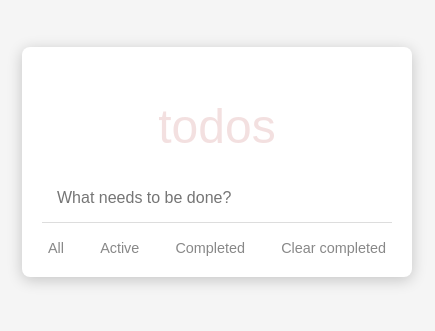
Test: ToDo App › should allow users to add a new todo
// Добавляем новую задачу
Type "Test the app" into the field with placeholder "What needs to be done?" at (217, 199), box [42,174,392,223]
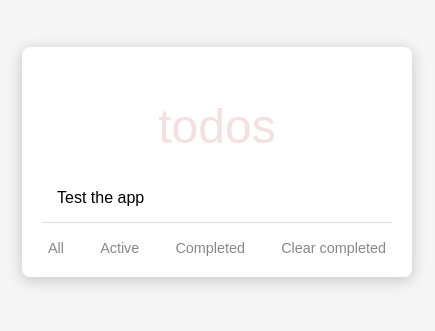
Submit the form from the field with placeholder "What needs to be done?", box [42,174,392,223]
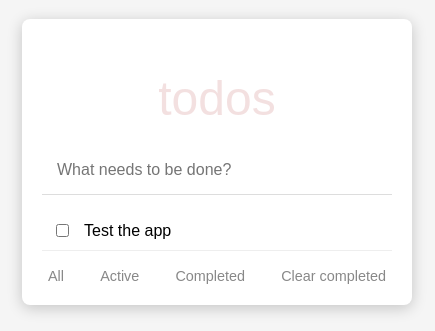
Expected: the text "Test the app" is shown, [84,222,171,240]
